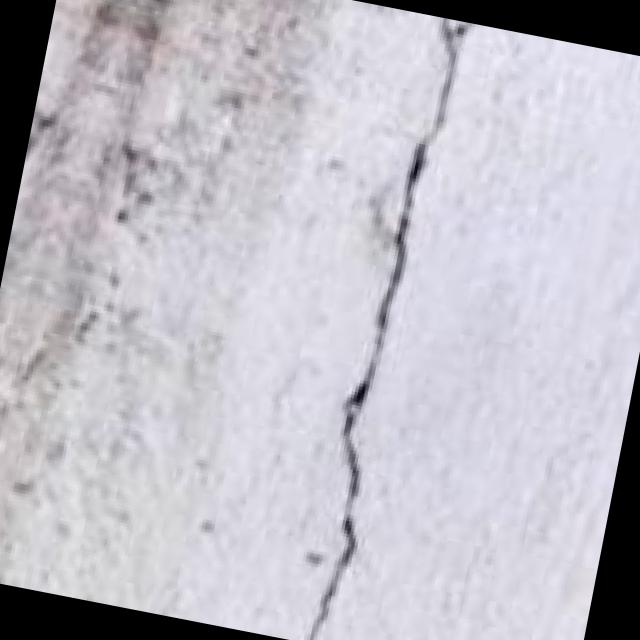crack: (238, 1, 516, 640)
